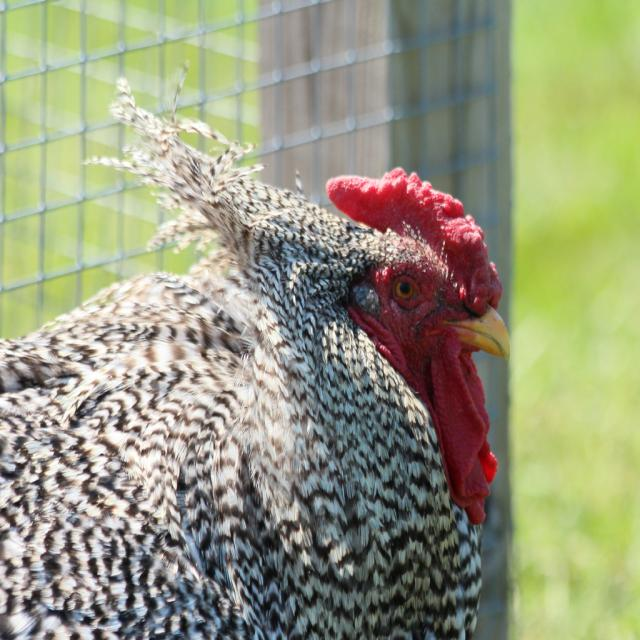Chicken: (0, 59, 511, 640)
